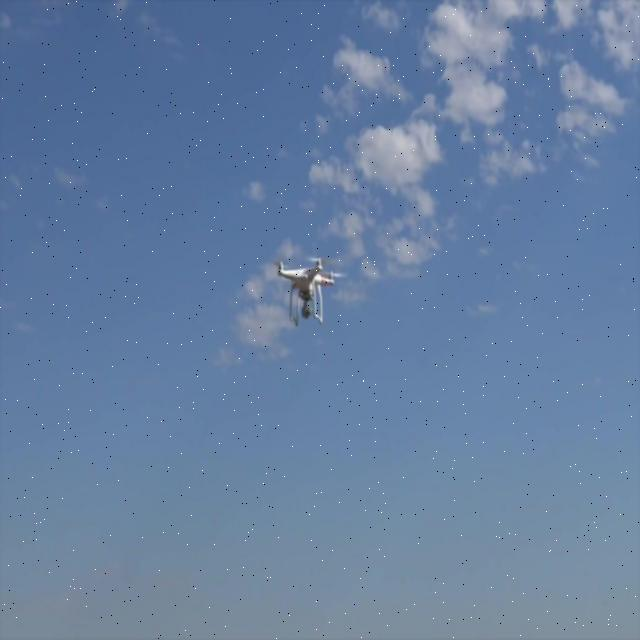UAV: (274, 257, 346, 326)
